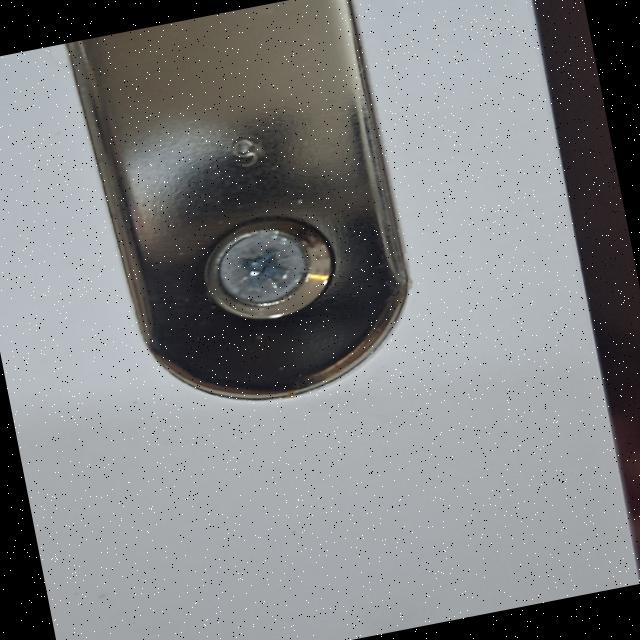Pozidriv: (190, 208, 338, 332)
